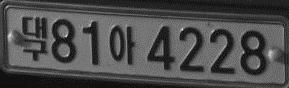1: (79, 20, 105, 65)
2: (208, 27, 236, 74), (177, 25, 204, 72)
4: (146, 24, 174, 70)
8: (239, 28, 267, 76), (50, 17, 76, 63)
대구_V: (20, 15, 48, 62)
아: (108, 24, 135, 65)
